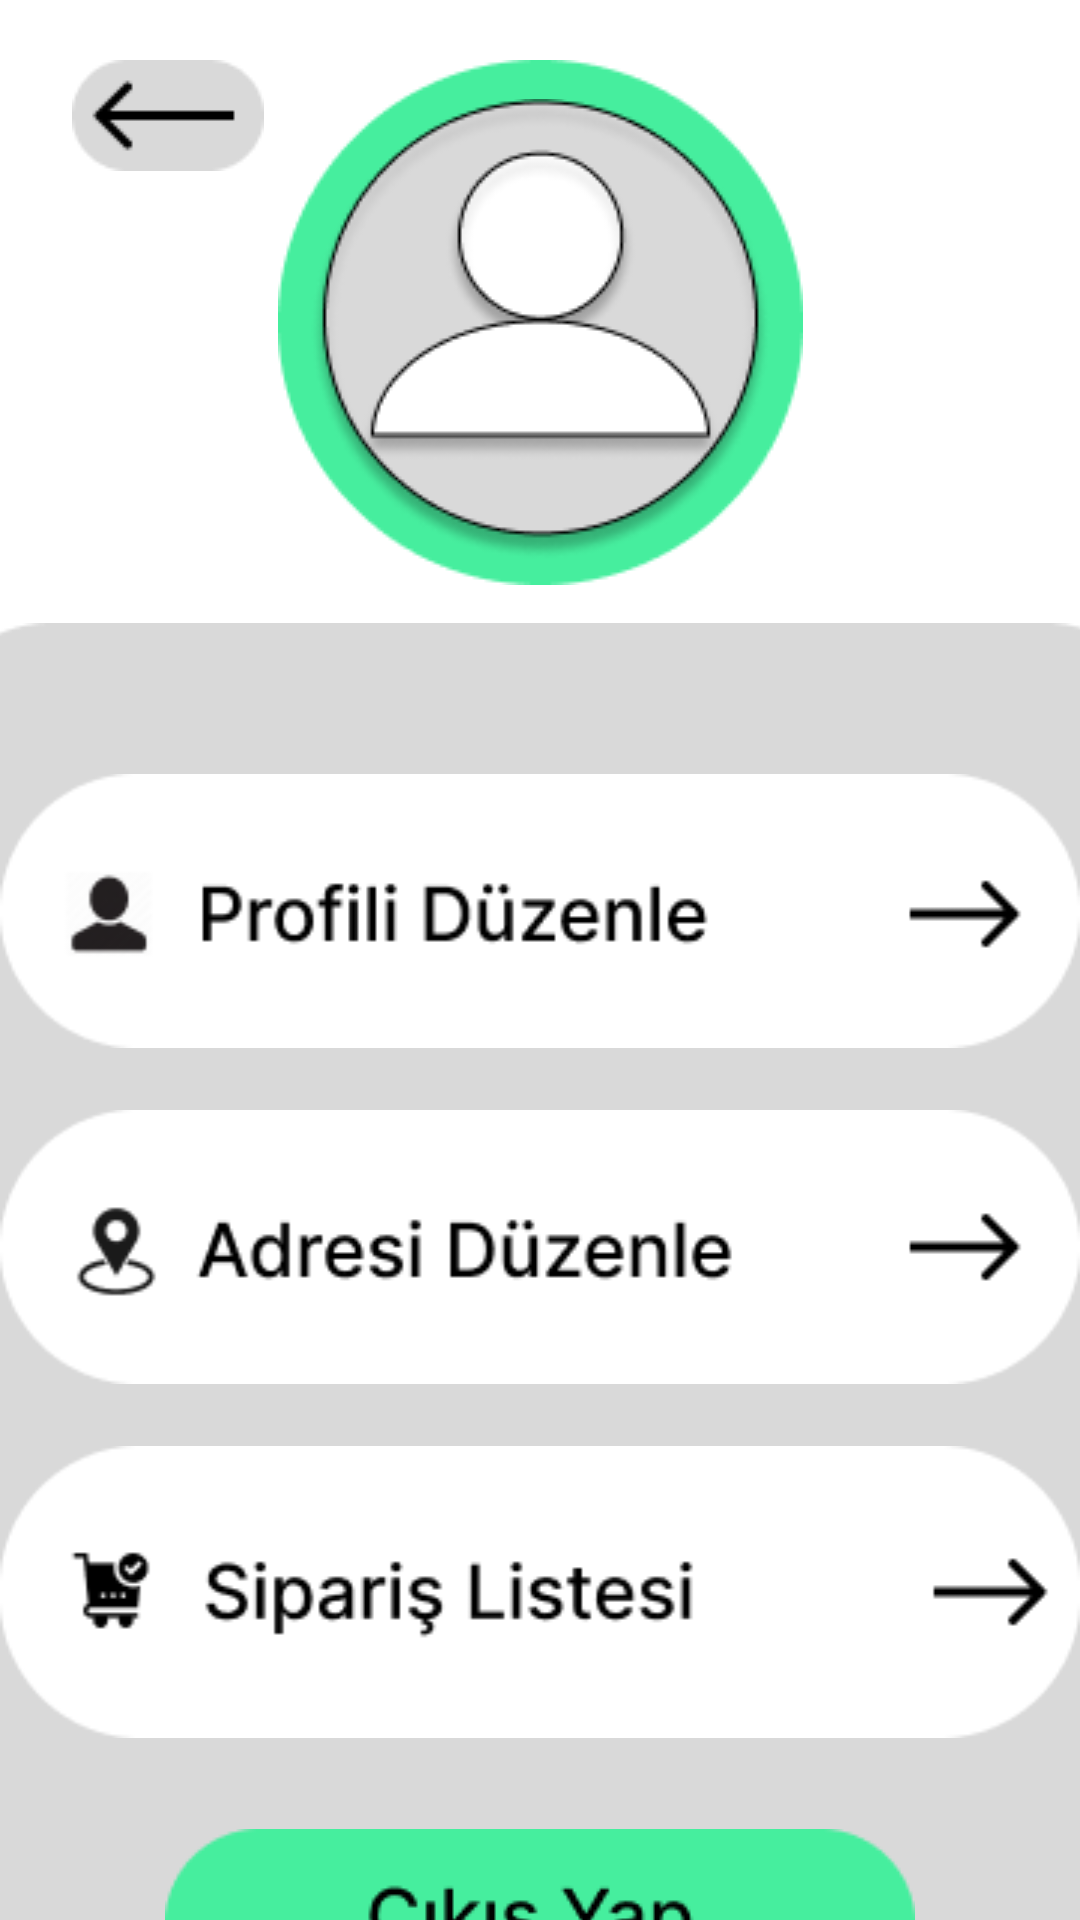

Named icons in this screenshot (1080x1920) and their bounding boxes, Rect(x1, y1, x2, y2):
geritusu: Rect(72, 60, 264, 171)
